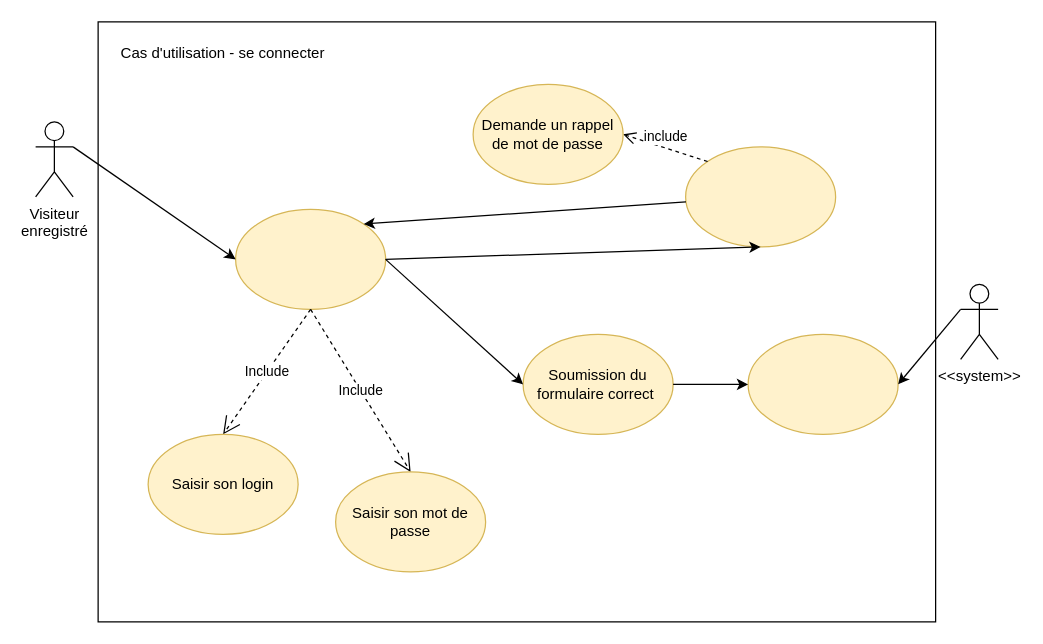
Some shapes in this 1043 by 644 pixel diagram are drawn without their labels. Here are the shapes that lost their labels. From the top down, the centre of each, then its label:
(x=760, y=196): Soumission du formulaire incorrect
(x=310, y=258): Cliquer sur connexion
(x=822, y=383): Accès à la page d'accueil
